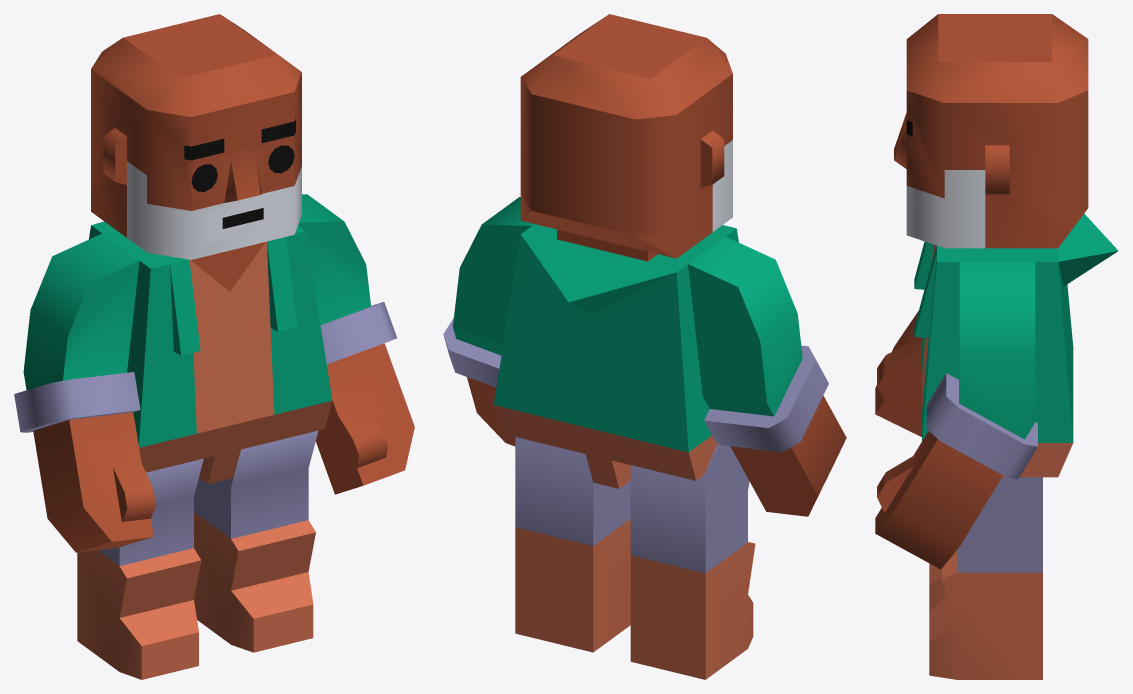
File: type-2 man.fbx
3 renders of one model, left to right at view 1: azimuth 30°, elevation 25°; view 2: azimuth 150°, elevation 25°; view 3: azimuth 270°, elevation 25°, orthographic.
Visible parts, largest first — view 1: mergedBlocks; view 2: mergedBlocks; view 3: mergedBlocks.
Boxes of the visible parts, x1=… form: mergedBlocks: x1=14, y1=14, x2=414, y2=679; mergedBlocks: x1=443, y1=14, x2=846, y2=679; mergedBlocks: x1=875, y1=14, x2=1118, y2=679.
Size of the model in its own units: 5.4 by 8.7 by 3.22.
